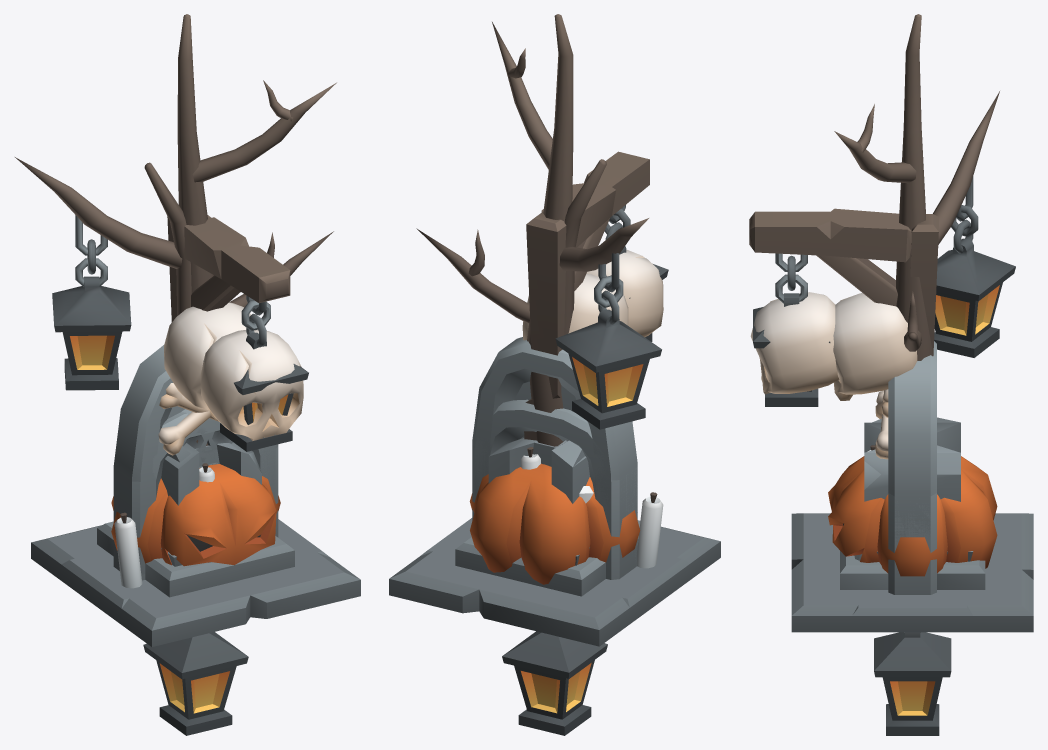
The model's file is halloween.glb.
The picture shows the model from 3 angles, left to right: view 1: azimuth 30°, elevation 25°; view 2: azimuth 150°, elevation 25°; view 3: azimuth 270°, elevation 25°; orthographic projection.
Visible parts, largest first — view 1: tree_dead_large_decorated, plaque_candles, grave_A, pumpkin_orange_jackolantern, post_skull_skull, lantern_hanging, post_lantern, shrine_candles, tree_dead_medium, post_lantern_lantern, gravestone; view 2: tree_dead_large_decorated, plaque_candles, grave_A, pumpkin_orange_jackolantern, post_lantern, lantern_hanging, gravestone, tree_dead_medium, post_skull_skull, shrine_candles; view 3: tree_dead_large_decorated, plaque_candles, grave_A, post_lantern, pumpkin_orange_jackolantern, post_skull_skull, lantern_hanging, shrine_candles, gravestone, post_lantern_lantern, tree_dead_medium.
Boxes of the visible parts, <box> form: tree_dead_large_decorated: <box>15,14,336,455</box>; plaque_candles: <box>31,512,360,646</box>; grave_A: <box>61,345,329,624</box>; pumpkin_orange_jackolantern: <box>111,464,280,566</box>; post_skull_skull: <box>200,295,303,440</box>; lantern_hanging: <box>143,632,248,735</box>; post_lantern: <box>167,215,290,322</box>; shrine_candles: <box>161,442,261,566</box>; tree_dead_medium: <box>144,162,333,315</box>; post_lantern_lantern: <box>203,299,308,451</box>; gravestone: <box>114,412,278,580</box>; tree_dead_large_decorated: <box>492,14,661,446</box>; plaque_candles: <box>389,486,720,646</box>; grave_A: <box>420,337,690,623</box>; pumpkin_orange_jackolantern: <box>469,463,640,584</box>; post_lantern: <box>524,151,649,440</box>; lantern_hanging: <box>502,631,607,735</box>; gravestone: <box>472,399,637,579</box>; tree_dead_medium: <box>416,159,606,334</box>; post_skull_skull: <box>586,205,663,337</box>; shrine_candles: <box>488,438,589,565</box>; tree_dead_large_decorated: <box>833,14,1015,459</box>; plaque_candles: <box>791,513,1033,632</box>; grave_A: <box>852,341,973,632</box>; post_lantern: <box>749,208,938,355</box>; pumpkin_orange_jackolantern: <box>828,456,997,576</box>; post_skull_skull: <box>750,256,839,394</box>; lantern_hanging: <box>874,632,951,735</box>; shrine_candles: <box>854,417,973,561</box>; gravestone: <box>888,493,936,594</box>; post_lantern_lantern: <box>753,253,830,406</box>; tree_dead_medium: <box>904,291,921,351</box>.
Size of the model in its own units: 2.65 by 6.45 by 2.35.
Materials: 1 (1 with a texture image).
